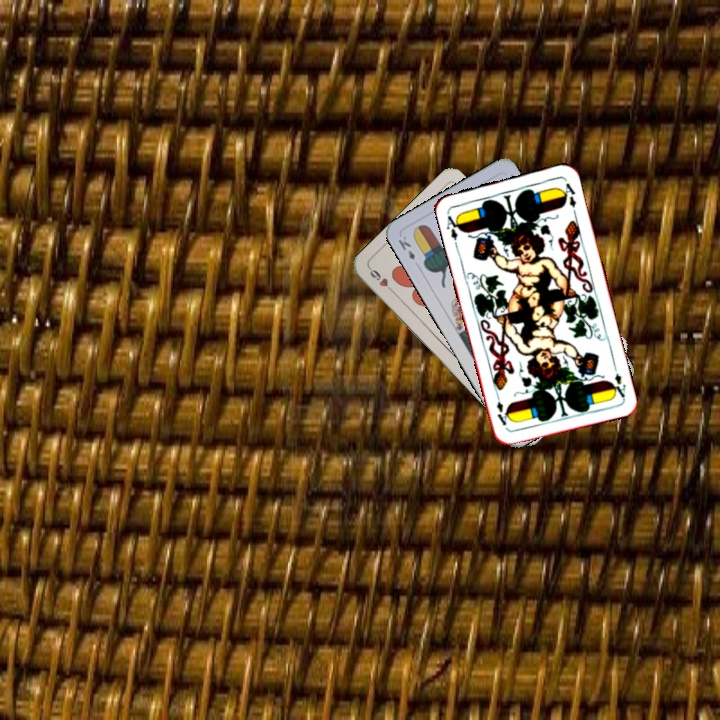EA: (608, 360, 628, 400), (443, 212, 464, 249)
EK: (394, 232, 418, 262)
H9: (365, 264, 397, 296)
